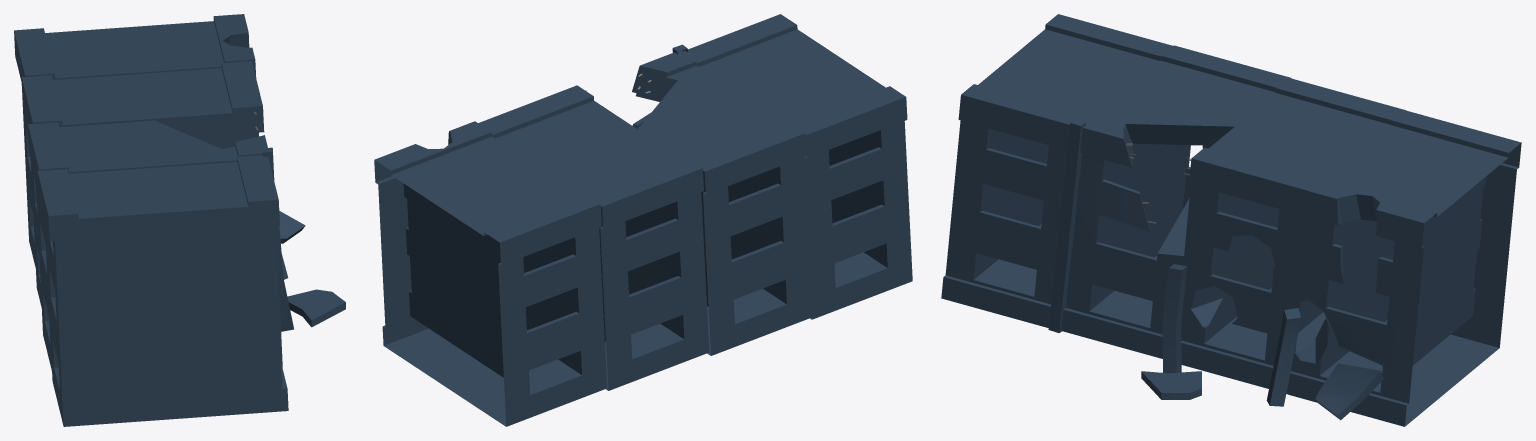
Rendered from palazzo_distrutto.fbx.
The picture shows the model from 3 angles, left to right: view 1: azimuth 30°, elevation 25°; view 2: azimuth 150°, elevation 25°; view 3: azimuth 270°, elevation 25°; orthographic projection. The views are drawn at different scales.
Parts seen in each view (by area): view 1: piano, piano2, piano3, piano1, macerie1, macerie, macerie3, cornicione; view 2: piano3, piano2, piano, piano1; view 3: piano3, piano2, piano, piano1, cornicione, macerie3, macerie, macerie2, macerie1.
Boxes of the visible parts, x1=… form: piano: x1=37, y1=155, x2=288, y2=426; piano2: x1=21, y1=61, x2=264, y2=306; piano3: x1=14, y1=14, x2=256, y2=268; piano1: x1=28, y1=120, x2=267, y2=370; macerie1: x1=287, y1=289, x2=345, y2=327; macerie: x1=276, y1=226, x2=294, y2=331; macerie3: x1=279, y1=211, x2=305, y2=243; cornicione: x1=262, y1=147, x2=282, y2=367; piano3: x1=374, y1=121, x2=606, y2=426; piano2: x1=478, y1=85, x2=709, y2=390; piano: x1=682, y1=14, x2=912, y2=319; piano1: x1=632, y1=51, x2=811, y2=355; piano3: x1=1287, y1=110, x2=1521, y2=426; piano2: x1=1181, y1=77, x2=1405, y2=393; piano: x1=941, y1=14, x2=1172, y2=327; piano1: x1=1061, y1=45, x2=1291, y2=358; cornicione: x1=1048, y1=119, x2=1085, y2=332; macerie3: x1=1315, y1=363, x2=1383, y2=420; macerie: x1=1162, y1=264, x2=1187, y2=373; macerie2: x1=1266, y1=308, x2=1300, y2=406; macerie1: x1=1141, y1=371, x2=1201, y2=399.
Size of the model in its own units: 43.52 by 25.56 by 55.19.
